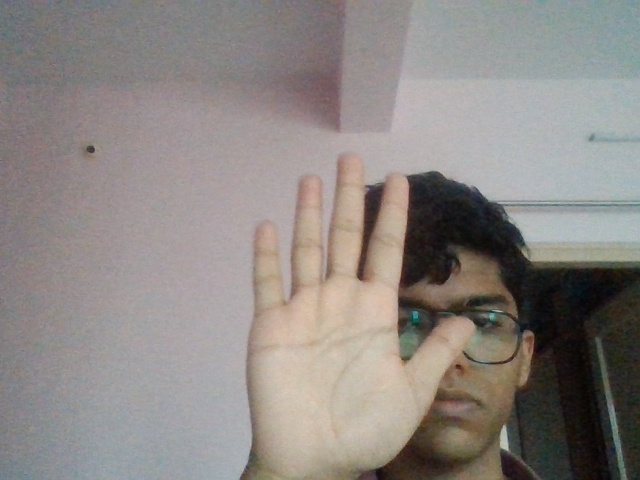Hello: (246, 144, 475, 480)
